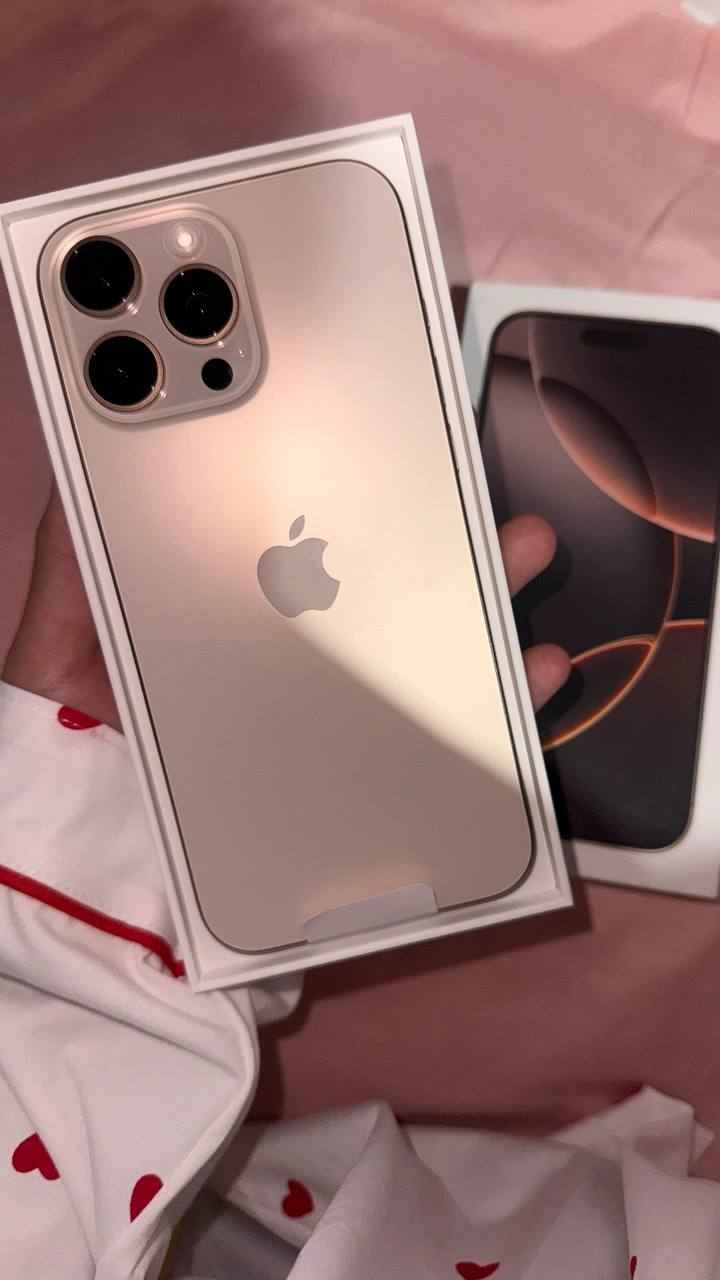phone: (29, 159, 539, 946)
